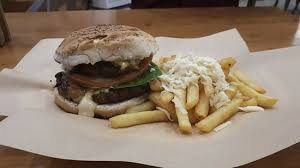hamburger: (54, 25, 158, 116)
